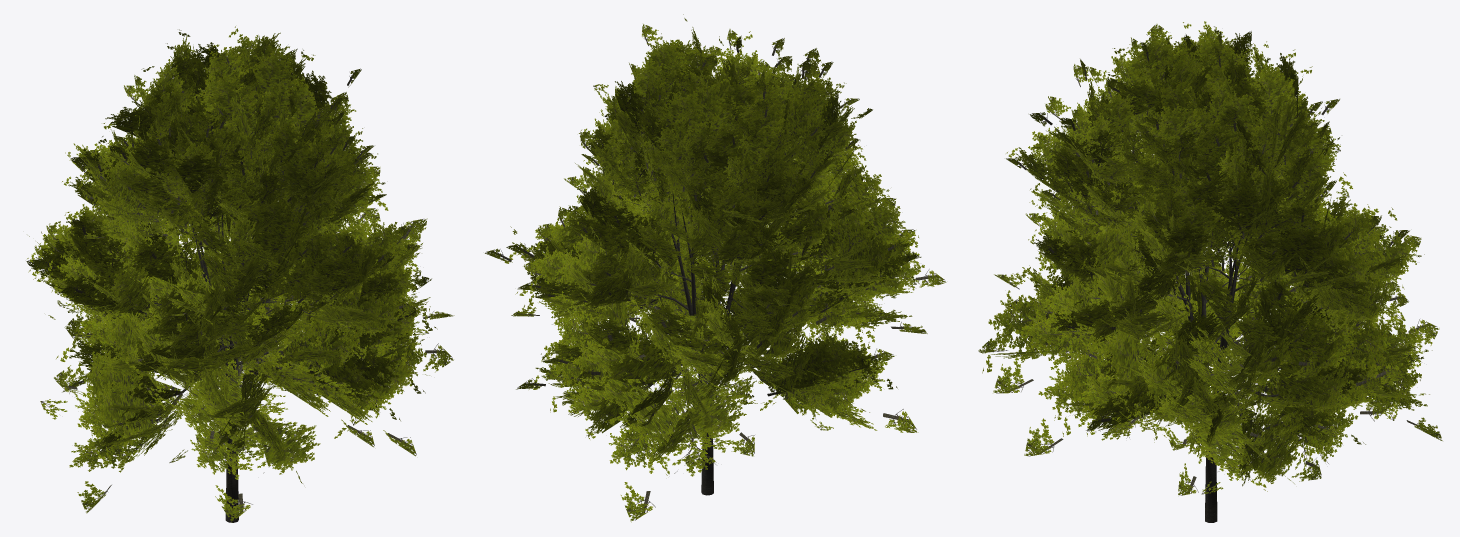
The model's file is maple.glb.
3 views of the same model, side by side, from view 1: azimuth 30°, elevation 25°; view 2: azimuth 150°, elevation 25°; view 3: azimuth 270°, elevation 25° (orthographic). The views are drawn at different scales.
Parts seen in each view (by area): view 1: maple; view 2: maple; view 3: maple.
Boxes of the visible parts, box(x1,y1,x2,y2) form: maple: box(26, 26, 454, 522); maple: box(485, 14, 946, 522); maple: box(978, 21, 1442, 522).
Size of the model in its own units: 13.45 by 15 by 13.16.
Materials: 2 (2 with a texture image).
